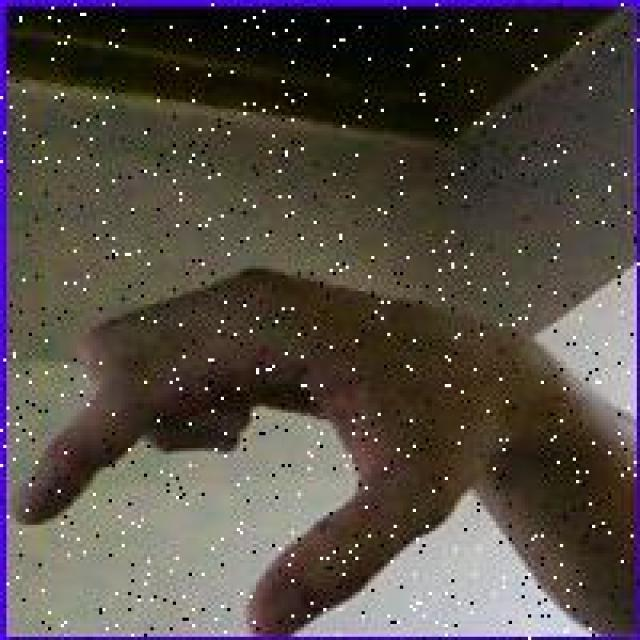Q: (8, 262, 494, 637)
